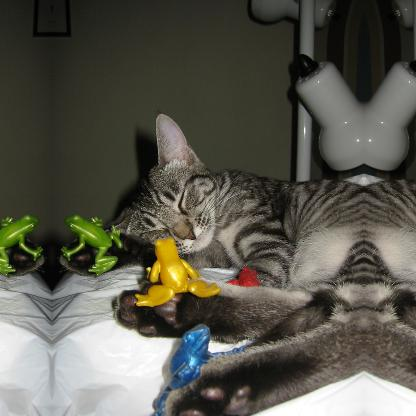Cat: (56, 112, 364, 414)
